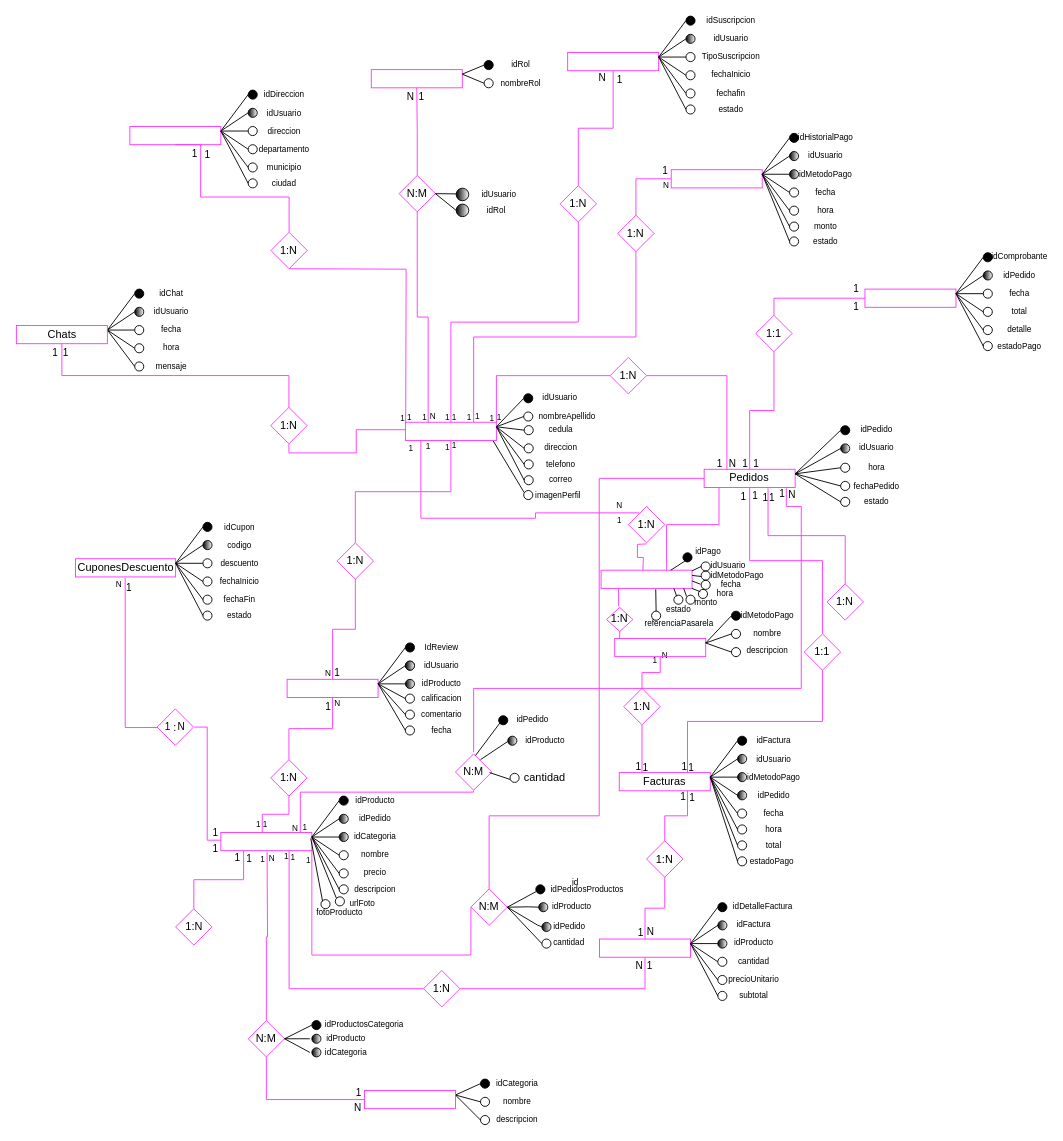
The diagram is 1063 pixels wide and 1141 high, and some of its shapes have lost their labels. Each missing label, with the box of its shape:
Categorias: (364, 1090, 455, 1109)
Comprobantes: (864, 288, 956, 307)
DetallesFacturas: (599, 938, 691, 957)
DireccionesEnvio: (129, 126, 221, 145)
HistorialesPago: (670, 169, 762, 188)
MetodosPagos: (614, 638, 706, 657)
Pagos: (600, 569, 692, 588)
Productos: (220, 832, 312, 851)
ReviewsProductos: (286, 678, 378, 698)
Roles: (370, 69, 462, 88)
Suscripciones: (567, 52, 659, 71)
Usuarios: (404, 421, 496, 440)
